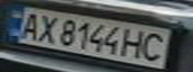1: (72, 19, 93, 49)
4: (87, 21, 109, 53), (103, 24, 124, 56)
8: (54, 16, 78, 47)
A: (12, 10, 45, 40)
C: (136, 30, 172, 62)
H: (121, 26, 151, 60)
X: (30, 12, 63, 44)
